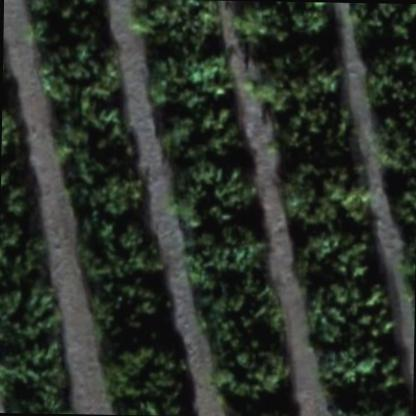Canopy-Citrus: (234, 0, 343, 74), (262, 74, 354, 160), (306, 278, 398, 356), (317, 341, 413, 415), (171, 158, 262, 235), (282, 156, 373, 230), (183, 229, 270, 302), (98, 324, 192, 390), (144, 43, 235, 111), (66, 148, 150, 221), (201, 288, 288, 358), (0, 339, 75, 413), (159, 102, 245, 166), (79, 218, 162, 284), (294, 224, 378, 288), (39, 42, 126, 102), (131, 0, 229, 52), (213, 352, 295, 412), (84, 274, 170, 330), (23, 0, 115, 52), (347, 2, 415, 72), (54, 97, 136, 152), (0, 275, 64, 340), (0, 214, 52, 281), (363, 58, 415, 119), (369, 105, 415, 172), (110, 385, 197, 415), (0, 157, 38, 214), (388, 174, 416, 240), (1, 102, 27, 162)
